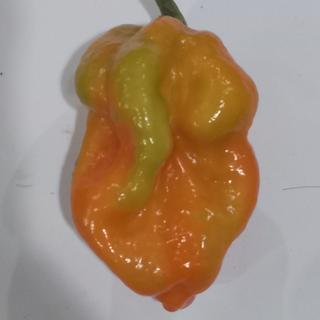Grade-A: (65, 13, 266, 313)
